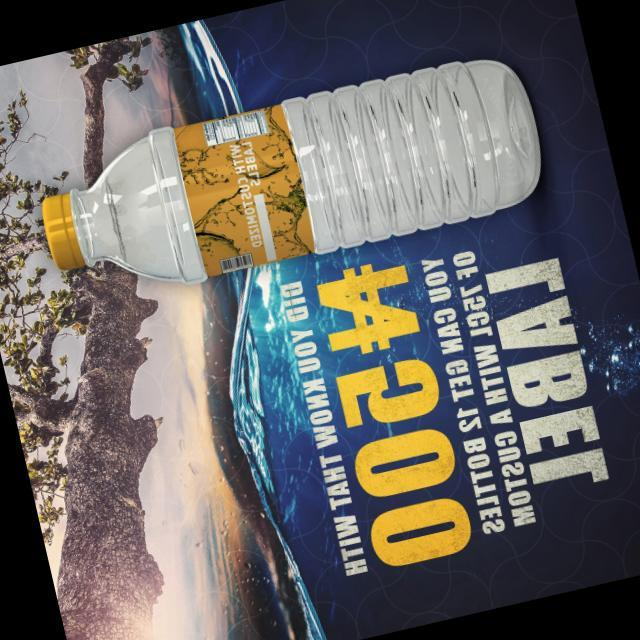good: (9, 35, 574, 321)
